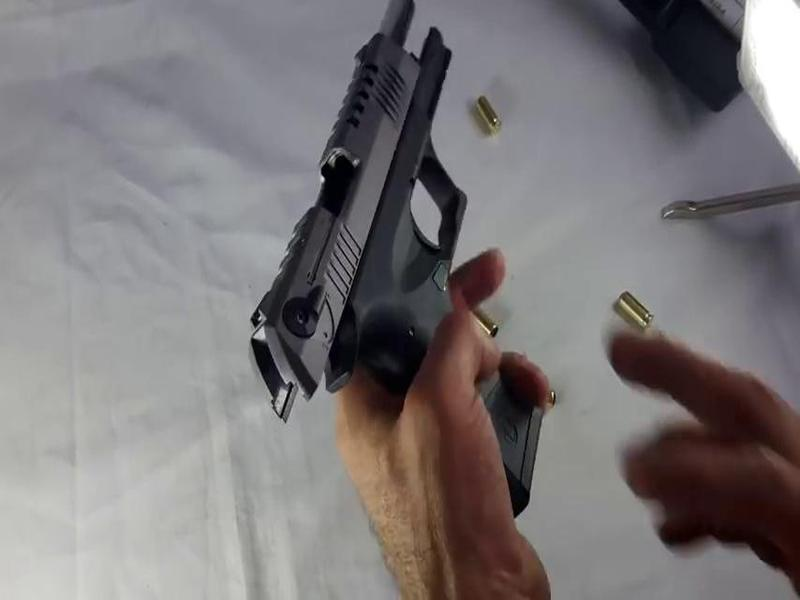Pistola: (223, 1, 569, 505)
